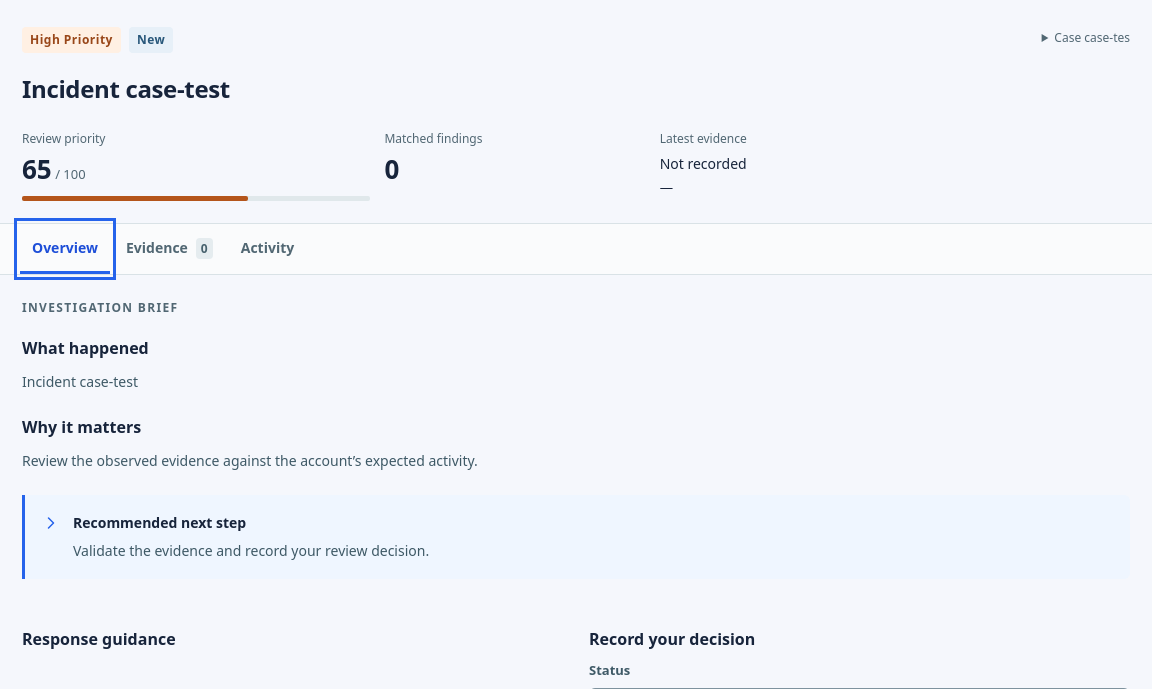
Test: navigates incident tabs with the keyboard and exposes supplied account evidence
Press Arrowright
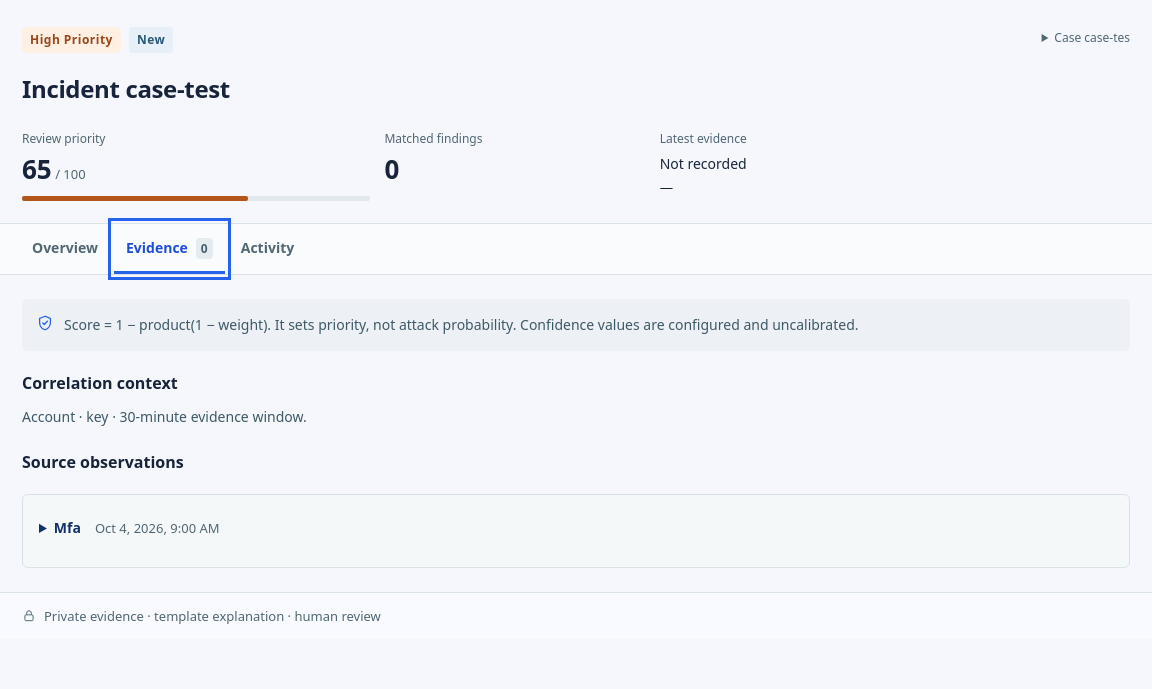
Expected: the panel shows "Source observations", [22,451,184,473]
Click the text "Mfa" at {"x": 67, "y": 527}, box [54,518,81,537]
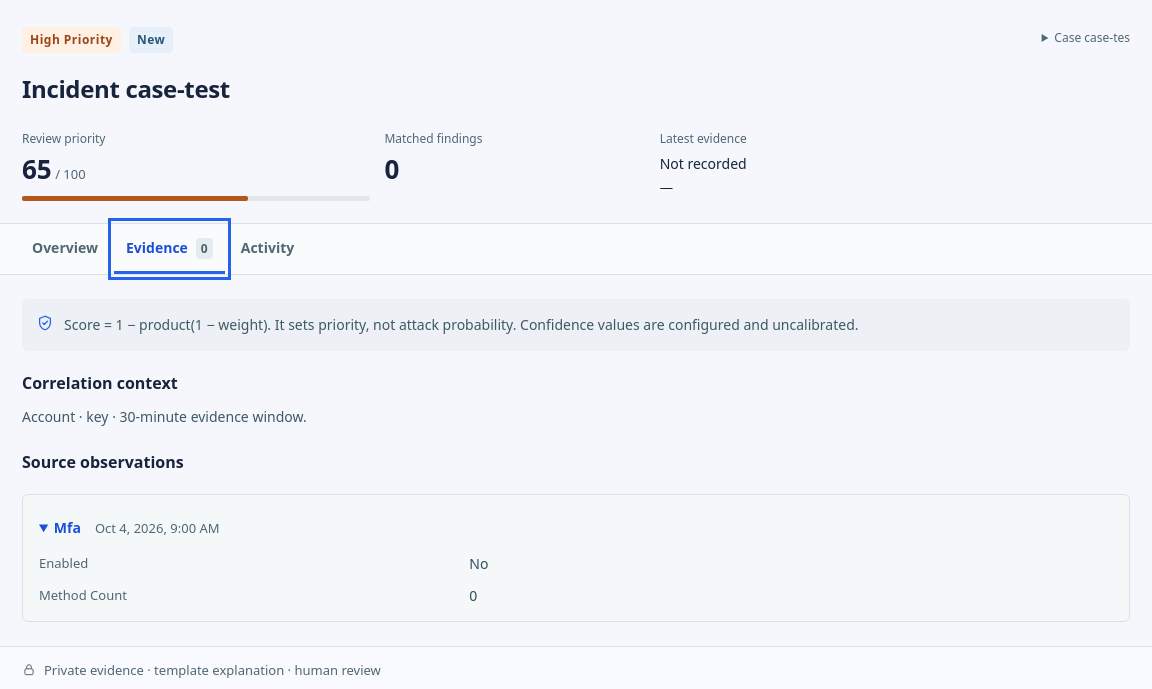
Expected: the text "Method Count" is shown, [39,586,127,604]
Expected: the text "No" is shown, [469,554,488,573]
Click the tab "Activity" at {"x": 267, "y": 249}, box [229,224,306,274]
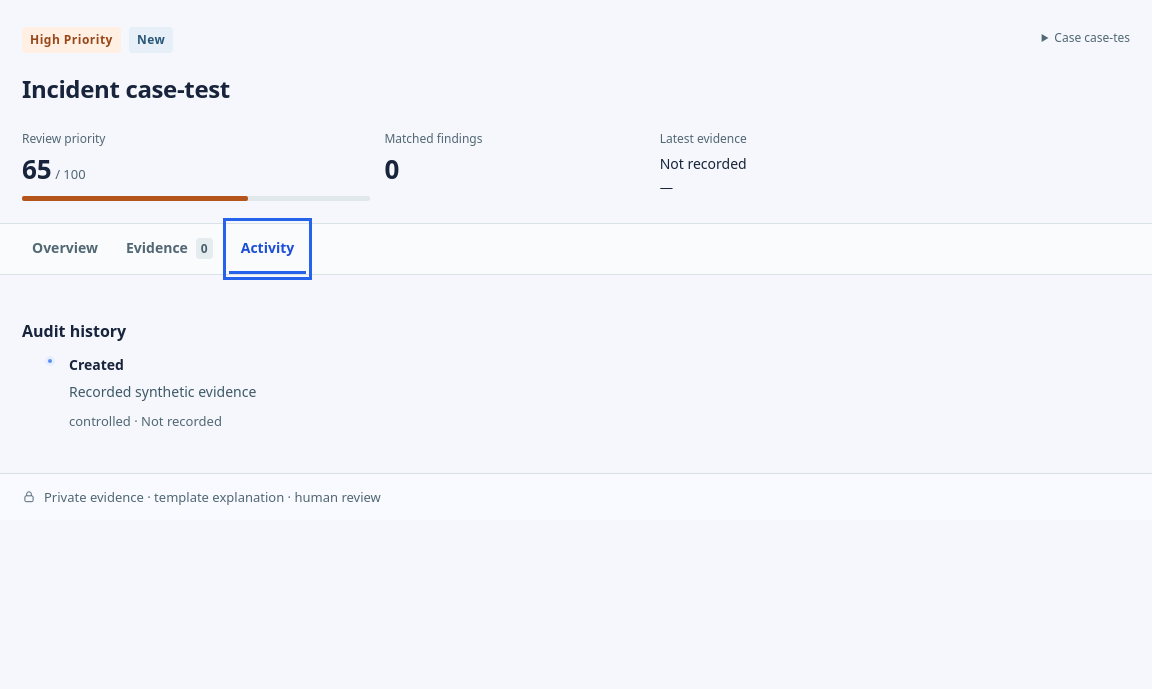
Expected: the panel shows "Recorded synthetic evidence", [69,382,256,401]
